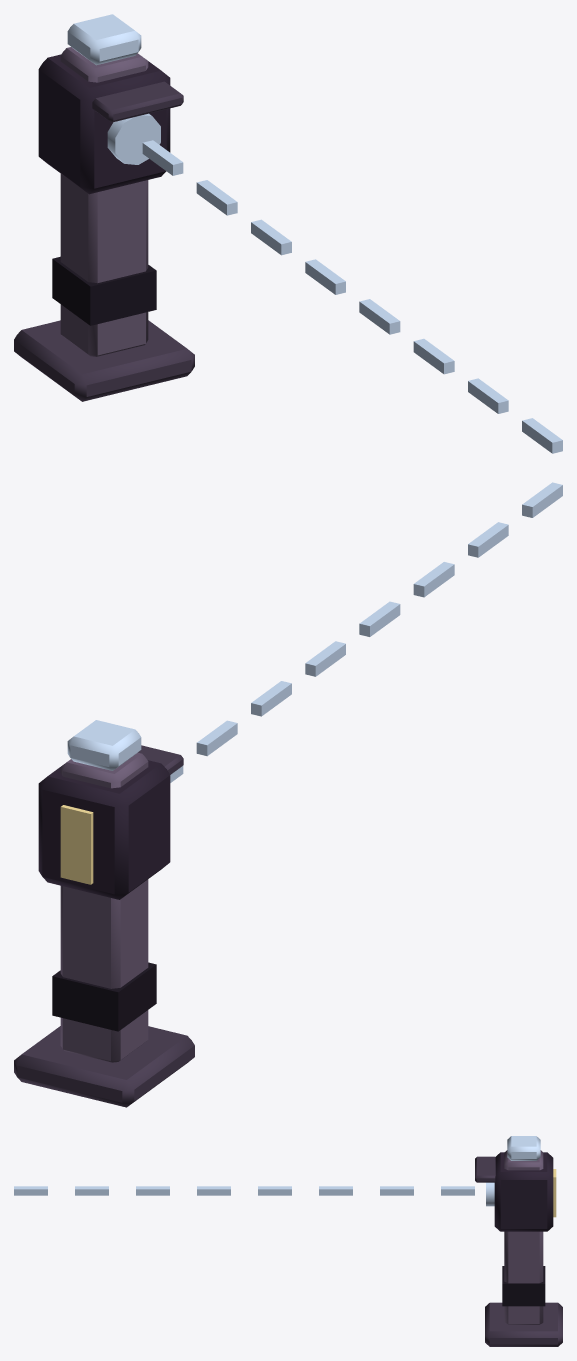
Rendered from trap_sensor__lower.glb.
The picture shows the model from 3 angles, top to bottom: view 1: azimuth 30°, elevation 25°; view 2: azimuth 150°, elevation 25°; view 3: azimuth 270°, elevation 25°; orthographic projection. The views are drawn at different scales.
Visible parts, largest first — view 1: Post, Beam, Lens; view 2: Post, Beam, Lens; view 3: Post, Beam, Lens.
Part boxes in pixels (bbox=[...]): Post: bbox=[14, 47, 194, 401]; Beam: bbox=[142, 140, 562, 453]; Lens: bbox=[67, 14, 160, 164]; Post: bbox=[14, 745, 194, 1107]; Beam: bbox=[170, 482, 562, 782]; Lens: bbox=[67, 720, 141, 770]; Post: bbox=[475, 1150, 562, 1346]; Beam: bbox=[14, 1186, 474, 1195]; Lens: bbox=[486, 1136, 540, 1206].
Size of the model in its own units: 0.16 by 0.432 by 1.12.
